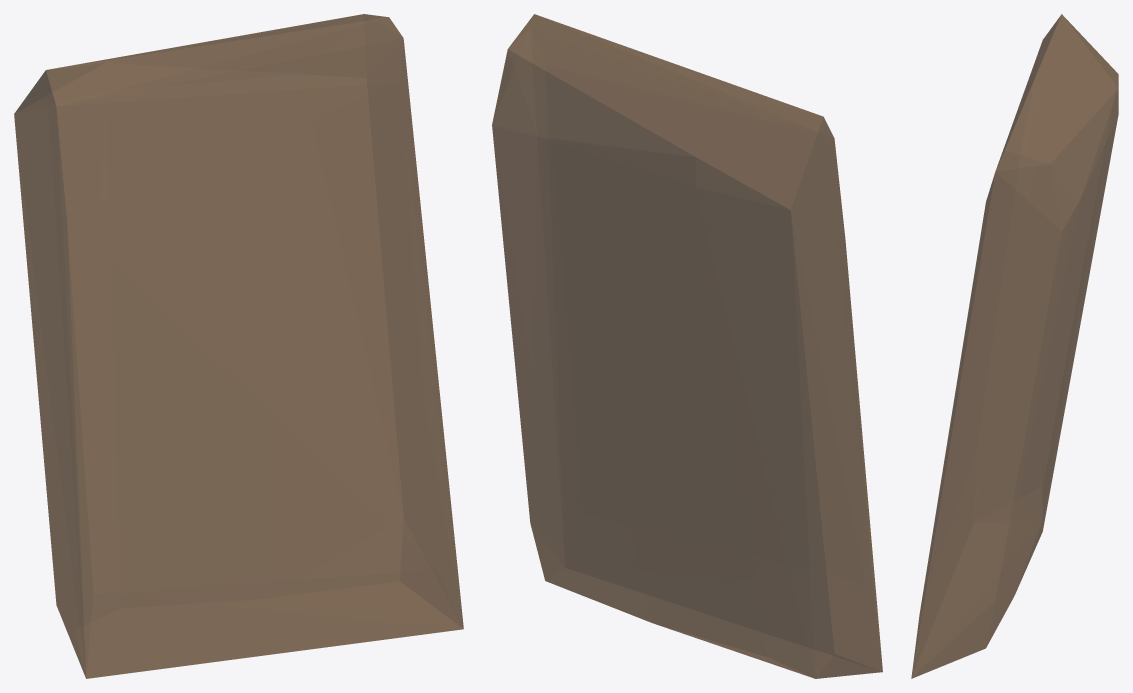
The picture shows the model from 3 angles, left to right: view 1: azimuth 30°, elevation 25°; view 2: azimuth 150°, elevation 25°; view 3: azimuth 270°, elevation 25°; orthographic projection. The views are drawn at different scales.
Visible parts, largest first — view 1: Shape_IndexedFaceSet.021_Shape_IndexedFaceSet.6428; view 2: Shape_IndexedFaceSet.021_Shape_IndexedFaceSet.6428; view 3: Shape_IndexedFaceSet.021_Shape_IndexedFaceSet.6428.
Boxes of the visible parts, left/top/right/bottom form: Shape_IndexedFaceSet.021_Shape_IndexedFaceSet.6428: left=14, top=14, right=463, bottom=678; Shape_IndexedFaceSet.021_Shape_IndexedFaceSet.6428: left=492, top=14, right=882, bottom=678; Shape_IndexedFaceSet.021_Shape_IndexedFaceSet.6428: left=911, top=14, right=1118, bottom=678.
Size of the model in its own units: 0.2382 by 0.3848 by 0.1393.
